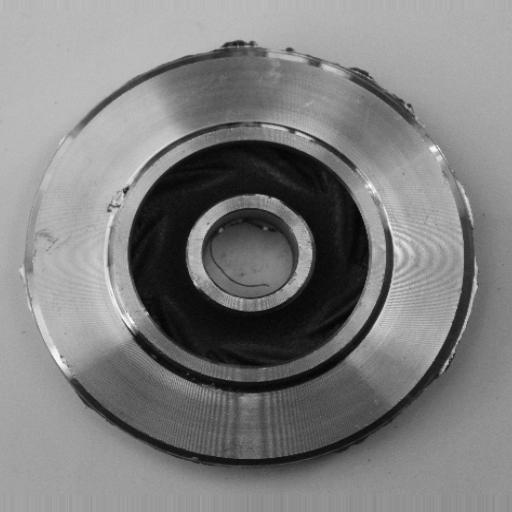casting_with_burr: (19, 37, 480, 474)
crack: (103, 179, 135, 223)
scratch: (353, 161, 404, 247), (230, 112, 327, 146), (100, 270, 141, 336)
